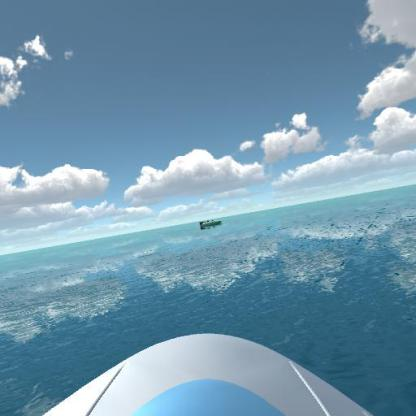usv0: (197, 212, 228, 234)
